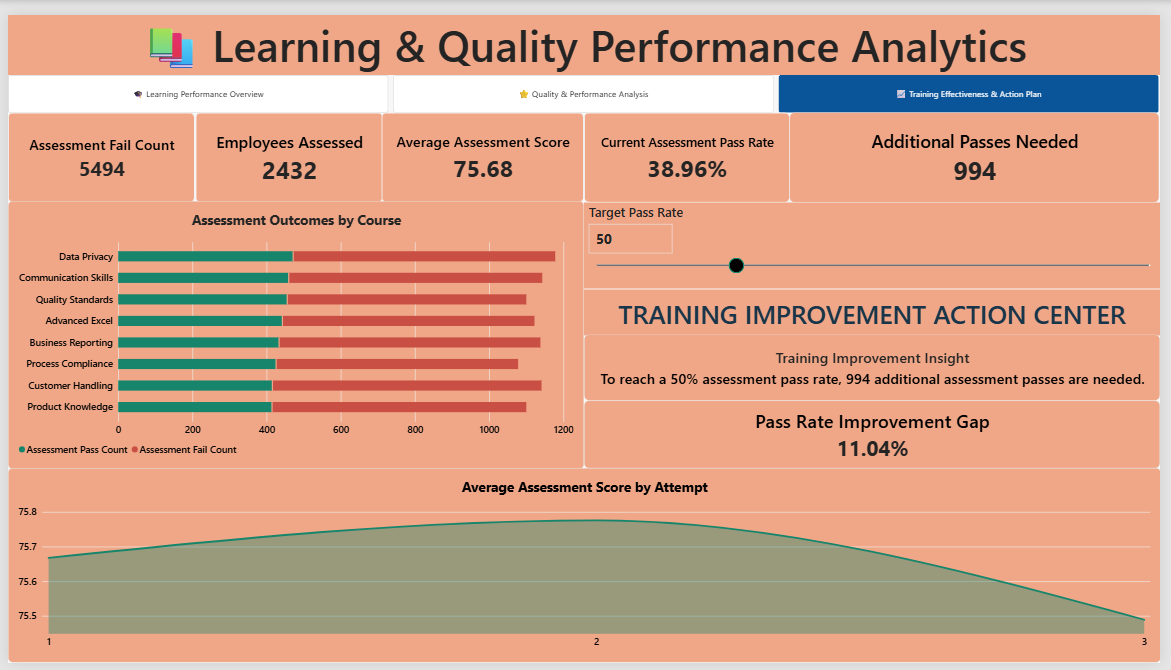

The page's visual inventory and layout, read from the dashboard file:
{"tool":"powerbi","page":{"name":"📈 Training Effectiveness & Action Plan","canvas":[1920,1080],"ordinal":2},"visuals":[{"type":"textbox","box":[0,0,1920.5,100],"z":0},{"type":"pageNavigator","box":[0,100,1920.5,63.6],"z":1000},{"type":"cardVisual","fields":{"Data":["Clean_Assessments.Assessment Fail Count"]},"box":[0,161.6,311.8,150.2],"z":2000},{"type":"cardVisual","fields":{"Data":["Clean_Assessments.Employees Assessed"]},"box":[311.8,161.6,312,150],"z":3000},{"type":"cardVisual","fields":{"Data":["Clean_Assessments.Average Assessment Score"]},"box":[623.6,161.6,337.3,150.2],"z":4000},{"type":"cardVisual","fields":{"Data":["Clean_Assessments.Current Assessment Pass Rate"]},"box":[960,163.3,343.3,150],"z":5000},{"type":"barChart","title":"Assessment Outcomes by Course","fields":{"Category":["Clean_Assessments.course_name"],"Y":["Clean_Assessments.Assessment Pass Count","Clean_Assessments.Assessment Fail Count"]},"box":[0,310,960,446.7],"z":6000},{"type":"areaChart","title":"Average Assessment Score by Attempt","fields":{"Category":["Clean_Assessments.attempt_number"],"Y":["Clean_Assessments.Average Assessment Score"]},"box":[0,755.3,1921.1,323.7],"z":7000},{"type":"slicer","fields":{"Values":["Target Pass Rate.Target Pass Rate"]},"box":[960,313.3,960,143.3],"z":7001},{"type":"cardVisual","fields":{"Data":["Clean_Assessments.Additional Passes Needed"]},"box":[1303.3,163.3,616.7,150],"z":7002},{"type":"textbox","box":[960,456.7,960,76.7],"z":7003},{"type":"cardVisual","fields":{"Data":["Clean_Assessments.Training Improvement Insight"]},"box":[960,533.3,960,110],"z":7004},{"type":"cardVisual","fields":{"Data":["Clean_Assessments.Pass Rate Improvement Gap"]},"box":[960,643.3,960,113.3],"z":7005}]}

Visuals, with their boxes in screenshot pixels (x1, y1, x2, y2), scaled from the page's 1920x1080 canvas onto the 1171x670 screenshot:
textbox: (0,0,1170,62)
pageNavigator: (0,62,1170,101)
cardVisual - Clean_Assessments.Assessment Fail Count: (0,100,190,193)
cardVisual - Clean_Assessments.Employees Assessed: (190,100,380,193)
cardVisual - Clean_Assessments.Average Assessment Score: (380,100,586,193)
cardVisual - Clean_Assessments.Current Assessment Pass Rate: (586,101,795,194)
"Assessment Outcomes by Course" barChart: (0,192,586,469)
"Average Assessment Score by Attempt" areaChart: (0,469,1170,669)
slicer - Target Pass Rate.Target Pass Rate: (586,194,1170,283)
cardVisual - Clean_Assessments.Additional Passes Needed: (795,101,1170,194)
textbox: (586,283,1170,331)
cardVisual - Clean_Assessments.Training Improvement Insight: (586,331,1170,399)
cardVisual - Clean_Assessments.Pass Rate Improvement Gap: (586,399,1170,469)
